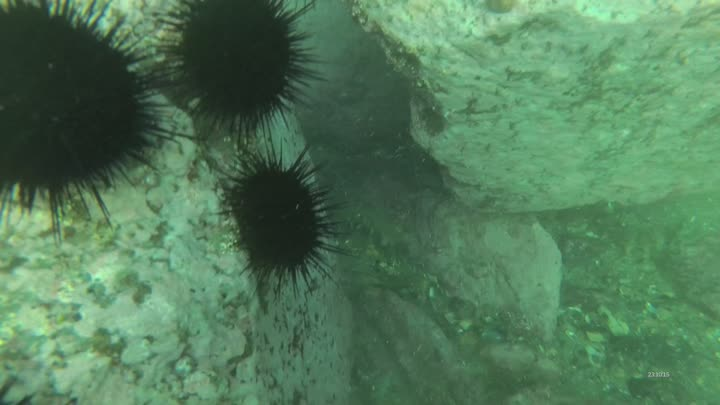echinus: (1, 1, 186, 234), (154, 1, 331, 147), (211, 143, 354, 307)
